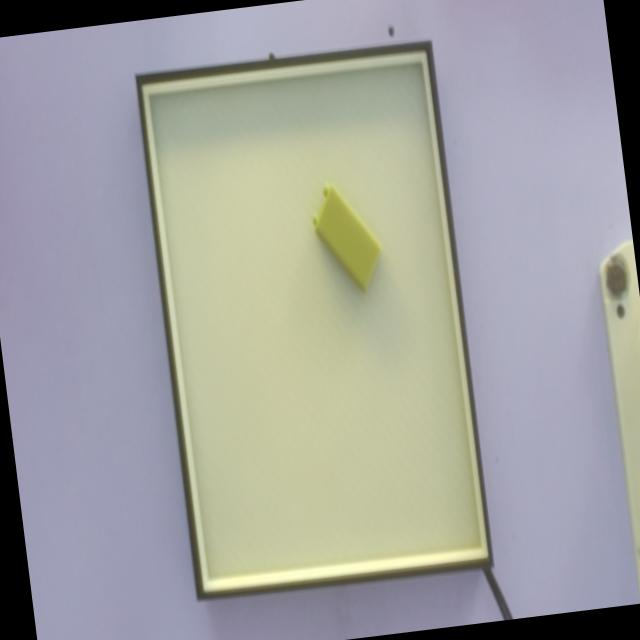bateria: (309, 181, 380, 291)
mesa: (135, 39, 493, 599)
